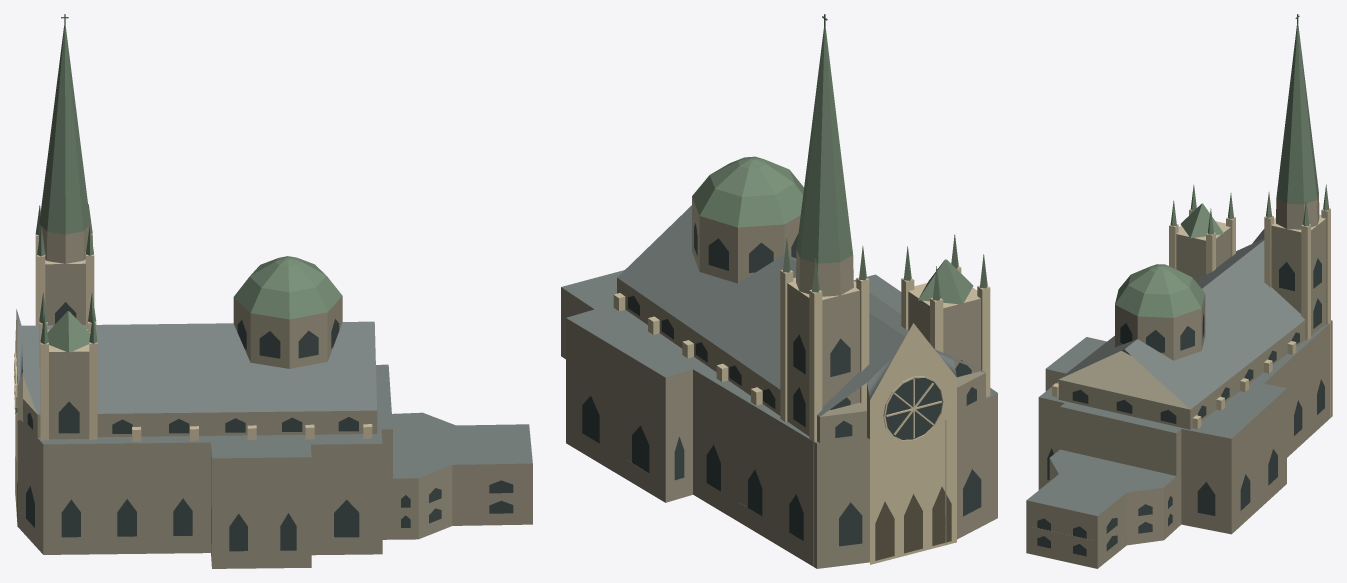
File: cathedrale-saint-antoine-longueuil-far.glb
3 views of the same model, side by side, from view 1: azimuth 30°, elevation 25°; view 2: azimuth 150°, elevation 25°; view 3: azimuth 270°, elevation 25° (orthographic). The views are drawn at different scales.
Visible parts, largest first — view 1: cathedrale-saint-antoine-longueuil-0-stone, cathedrale-saint-antoine-longueuil-0-slate, cathedrale-saint-antoine-longueuil-0-roof, cathedrale-saint-antoine-longueuil-0-glass, cathedrale-saint-antoine-longueuil-0-trim; view 2: cathedrale-saint-antoine-longueuil-0-stone, cathedrale-saint-antoine-longueuil-0-slate, cathedrale-saint-antoine-longueuil-0-trim, cathedrale-saint-antoine-longueuil-0-roof, cathedrale-saint-antoine-longueuil-0-glass, cathedrale-saint-antoine-longueuil-0-door; view 3: cathedrale-saint-antoine-longueuil-0-stone, cathedrale-saint-antoine-longueuil-0-slate, cathedrale-saint-antoine-longueuil-0-roof, cathedrale-saint-antoine-longueuil-0-glass, cathedrale-saint-antoine-longueuil-0-trim.
Part boxes in pixels (<box>): cathedrale-saint-antoine-longueuil-0-stone: <box>17,224,532,568</box>; cathedrale-saint-antoine-longueuil-0-slate: <box>16,309,532,478</box>; cathedrale-saint-antoine-longueuil-0-roof: <box>35,25,342,352</box>; cathedrale-saint-antoine-longueuil-0-glass: <box>16,302,513,551</box>; cathedrale-saint-antoine-longueuil-0-trim: <box>14,232,372,526</box>; cathedrale-saint-antoine-longueuil-0-stone: <box>561,196,997,568</box>; cathedrale-saint-antoine-longueuil-0-slate: <box>561,205,997,443</box>; cathedrale-saint-antoine-longueuil-0-trim: <box>613,266,990,566</box>; cathedrale-saint-antoine-longueuil-0-roof: <box>692,27,987,304</box>; cathedrale-saint-antoine-longueuil-0-glass: <box>582,223,981,546</box>; cathedrale-saint-antoine-longueuil-0-door: <box>875,487,951,560</box>; cathedrale-saint-antoine-longueuil-0-stone: <box>1026,193,1332,568</box>; cathedrale-saint-antoine-longueuil-0-slate: <box>1027,229,1331,515</box>; cathedrale-saint-antoine-longueuil-0-roof: <box>1115,24,1329,317</box>; cathedrale-saint-antoine-longueuil-0-glass: <box>1037,258,1324,556</box>; cathedrale-saint-antoine-longueuil-0-trim: <box>1052,208,1330,429</box>.
Size of the model in its own units: 78.33 by 81 by 55.14.
